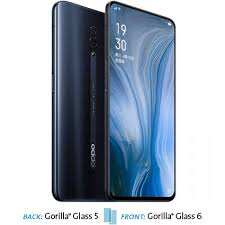oppo: (100, 1, 178, 204), (51, 1, 103, 206)
